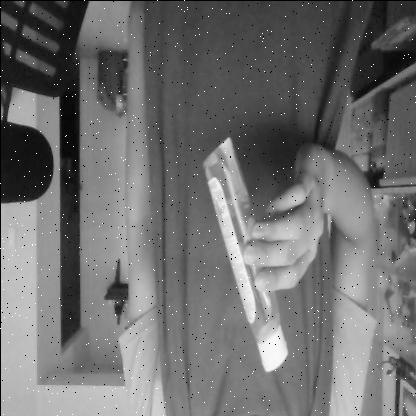Plastic Bottle: (195, 130, 294, 378)
